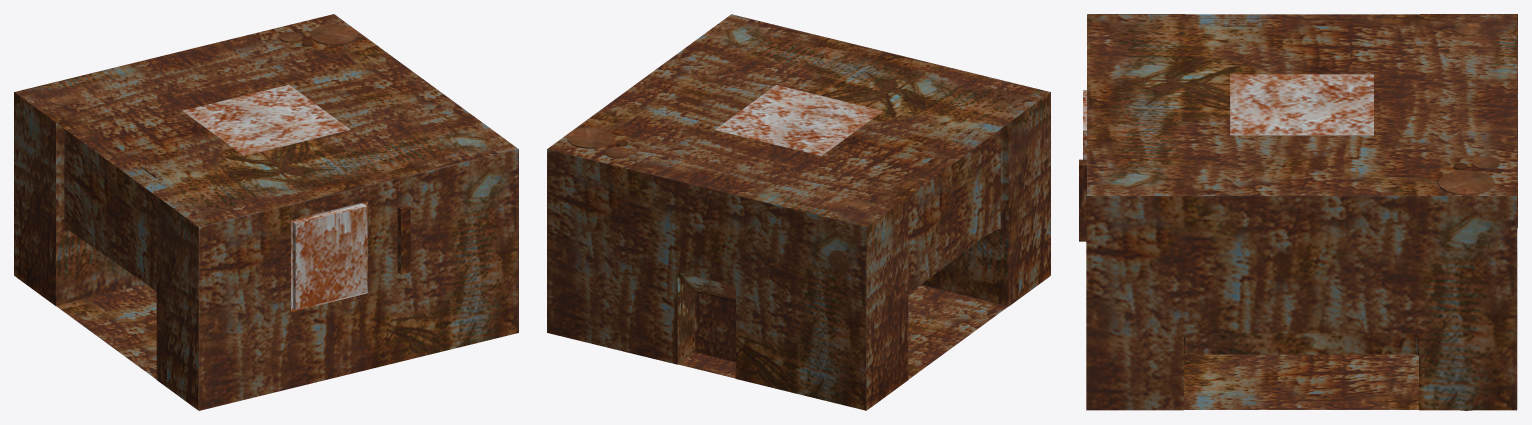
Rendered from Cabina.fbx.
3 renders of one model, left to right at view 1: azimuth 30°, elevation 25°; view 2: azimuth 150°, elevation 25°; view 3: azimuth 270°, elevation 25°, orthographic. The views are drawn at different scales.
Parts seen in each view (by area): view 1: Pared Fondo, Techo, Pared Izq, Escotilla, Piso, Tuberia 1; view 2: Pared Frente, Techo, Pared Izq, Escotilla, Piso, Tuberia 1, Cylinder; view 3: Pared Der, Techo, Piso, Escotilla, Tuberia 1, Pared Fondo, Pared Izq.
Boxes of the visible parts, box(x1,y1,x2,y2) form: Pared Fondo: box(199, 149, 518, 410); Techo: box(15, 14, 517, 226); Pared Izq: box(14, 92, 198, 410); Escotilla: box(182, 84, 350, 156); Piso: box(56, 247, 198, 410); Tuberia 1: box(310, 24, 357, 45); Pared Frente: box(547, 149, 866, 410); Techo: box(547, 14, 1050, 226); Pared Izq: box(866, 92, 1050, 410); Escotilla: box(715, 85, 882, 156); Piso: box(678, 285, 1008, 379); Tuberia 1: box(566, 127, 614, 148); Cylinder: box(828, 199, 871, 272); Pared Der: box(1086, 196, 1516, 410); Techo: box(1087, 14, 1517, 195); Piso: box(1184, 336, 1517, 409); Escotilla: box(1230, 74, 1373, 135); Tuberia 1: box(1438, 170, 1494, 410); Pared Fondo: box(1079, 90, 1086, 241); Pared Izq: box(1087, 14, 1517, 228).
Bounding box in the file's own units: 220 × 124 × 224.
